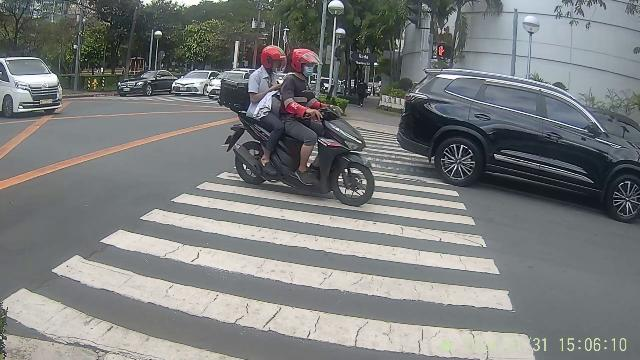car: (0, 49, 68, 119), (119, 69, 218, 95)
lamp_post: (520, 10, 544, 80), (326, 0, 344, 86), (152, 30, 164, 66)
motorcycle: (223, 97, 374, 195)
